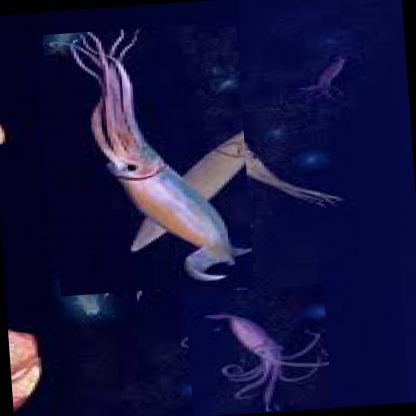colossal_squid: (42, 20, 254, 296), (184, 283, 333, 415)
